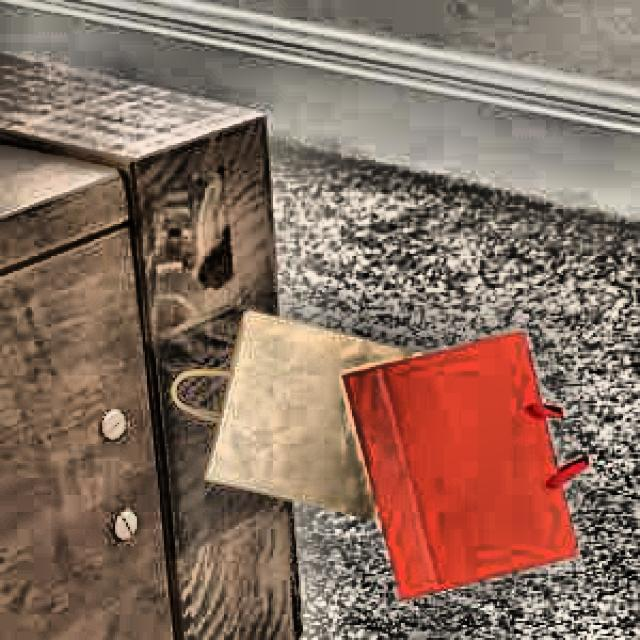Paper-bag: (323, 296, 594, 608), (160, 320, 439, 544)
